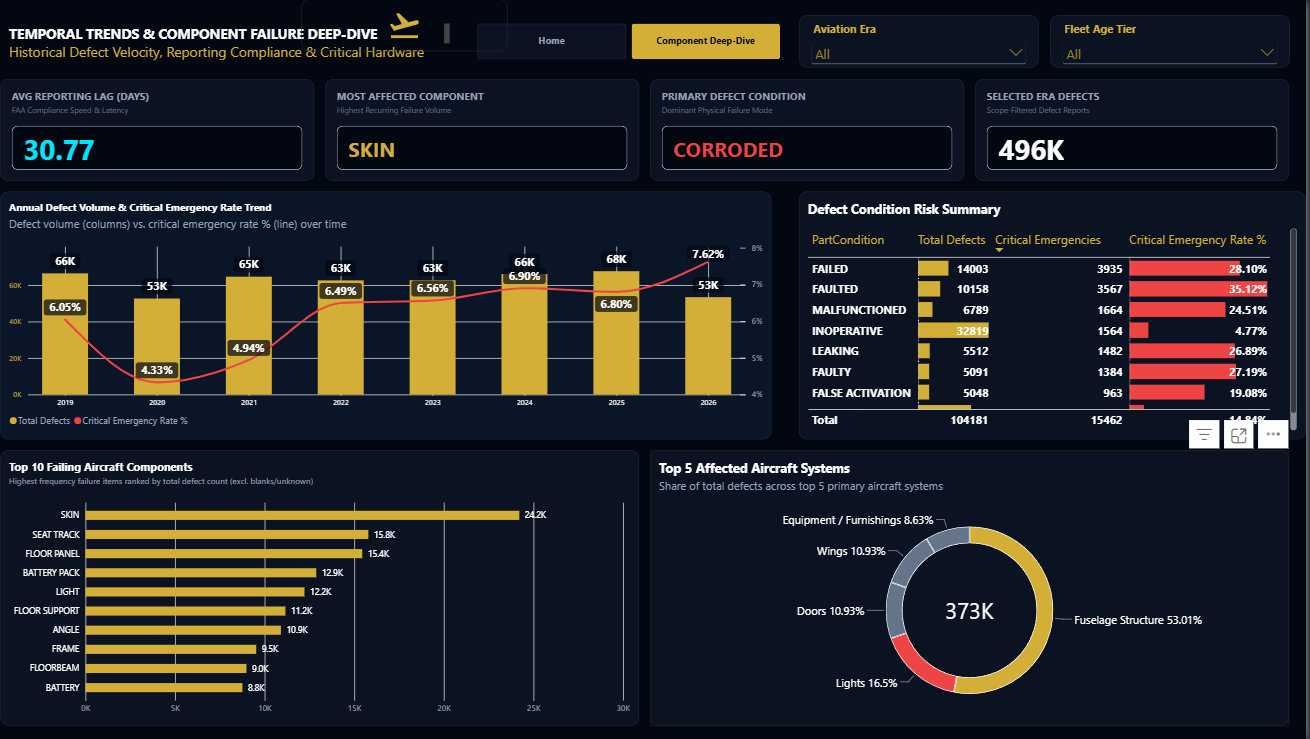

Layout of this report page (visuals, bound fields, positions):
{"tool":"powerbi","page":{"name":"Component Deep-Dive","canvas":[1920,1080],"ordinal":2},"visuals":[{"type":"textbox","box":[24.1,24.1,664.9,76.6],"z":0},{"type":"pageNavigator","box":[704,24,464,76],"z":1000},{"type":"slicer","fields":{"Values":["Dim_Date.Aviation_Era"]},"box":[1184,24,348,76],"z":2000},{"type":"slicer","fields":{"Values":["Fact_Defects.Fleet_Age_Tier"]},"box":[1548,24,348,76],"z":3000},{"type":"cardVisual","title":"AVG REPORTING LAG (DAYS)","fields":{"Data":["Measures_Table.Avg Reporting Lag (Days)"]},"box":[24,116,456,148],"z":4000},{"type":"cardVisual","title":"MOST AFFECTED COMPONENT","fields":{"Data":["Measures_Table.Most Affected Component"]},"box":[496,116,456,148],"z":5000},{"type":"cardVisual","title":"PRIMARY DEFECT CONDITION","fields":{"Data":["Measures_Table.Primary Defect Condition"]},"box":[968,116,456,148],"z":6000},{"type":"cardVisual","title":"SELECTED ERA DEFECTS","fields":{"Data":["Measures_Table.Total Defects"]},"box":[1440,116,456,148],"z":7000},{"type":"lineClusteredColumnComboChart","title":"Annual Defect Volume & Critical Emergency Rate Trend","fields":{"Category":["Dim_Date.Year"],"Y":["Measures_Table.Total Defects"],"Y2":["Measures_Table.Critical Emergency Rate %"]},"box":[24,280,1120,360],"z":8000},{"type":"tableEx","title":"Defect Condition Risk Summary","fields":{"Values":["Fact_Defects.PartCondition","Measures_Table.Total Defects","Measures_Table.Critical Emergencies","Measures_Table.Critical Emergency Rate %"]},"box":[1183.3,280,736,360],"z":9000},{"type":"clusteredBarChart","title":"Top 10 Failing Aircraft Components","fields":{"Category":["Fact_Defects.PartName"],"Y":["Measures_Table.Total Defects"]},"box":[24,656,928,400],"z":10000},{"type":"donutChart","title":"Top 5 Affected Aircraft Systems","fields":{"Category":["Dim_System.System_Category"],"Y":["Measures_Table.Total Defects"]},"box":[968,656,928,400],"z":11000},{"type":"image","box":[461.2,0,299.6,76.3],"z":11001}]}

Visuals, with their boxes in screenshot pixels (x1, y1, x2, y2), scaled from the page's 1920x1080 canvas onto the 1310x739 screenshot:
textbox: <box>16,16,470,69</box>
pageNavigator: <box>480,16,797,68</box>
slicer - Dim_Date.Aviation_Era: <box>808,16,1045,68</box>
slicer - Fact_Defects.Fleet_Age_Tier: <box>1056,16,1294,68</box>
"AVG REPORTING LAG (DAYS)" cardVisual: <box>16,79,328,181</box>
"MOST AFFECTED COMPONENT" cardVisual: <box>338,79,650,181</box>
"PRIMARY DEFECT CONDITION" cardVisual: <box>660,79,972,181</box>
"SELECTED ERA DEFECTS" cardVisual: <box>982,79,1294,181</box>
"Annual Defect Volume & Critical Emergency Rate Trend" lineClusteredColumnComboChart: <box>16,192,781,438</box>
"Defect Condition Risk Summary" tableEx: <box>807,192,1309,438</box>
"Top 10 Failing Aircraft Components" clusteredBarChart: <box>16,449,650,723</box>
"Top 5 Affected Aircraft Systems" donutChart: <box>660,449,1294,723</box>
image: <box>315,0,519,52</box>
